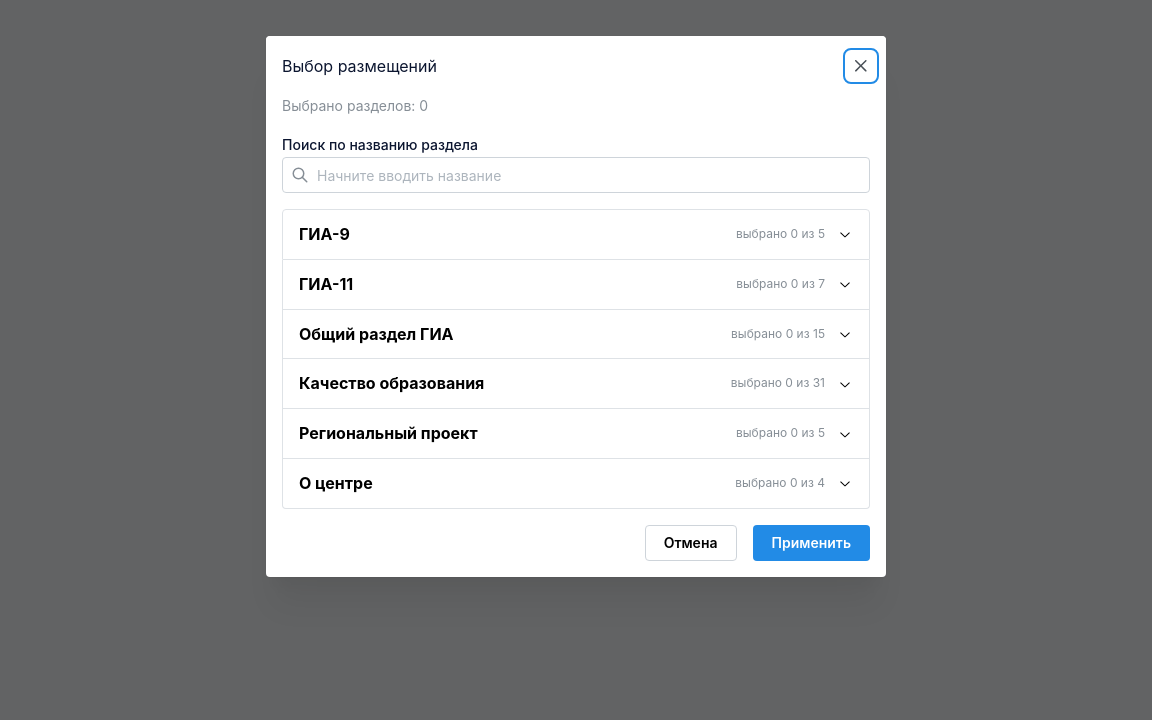
Scenario: PlacementSelector › renders every item from the largest placement group
The width and height of the screenshot is (1152, 720).
Click the button "Качество образования выбрано 0 из 31" at (392, 383), box [283,360,869,408]
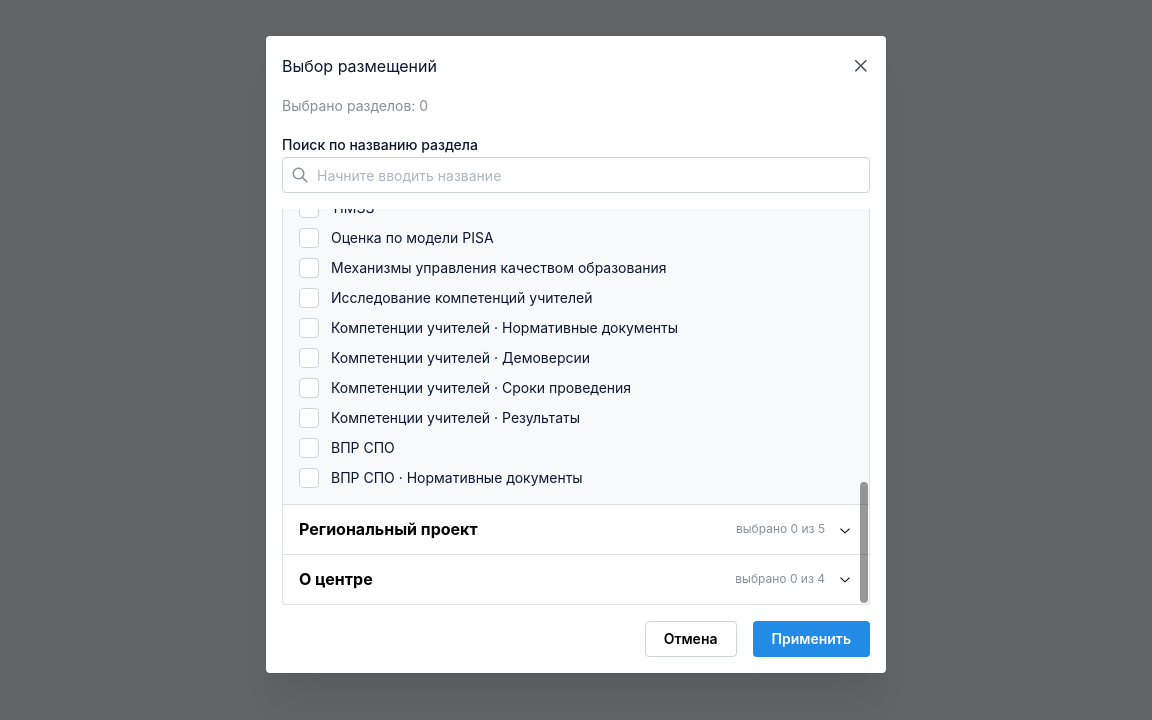
Expected: the text "ВПР СПО · Нормативные документы" is shown, [319,468,583,488]
